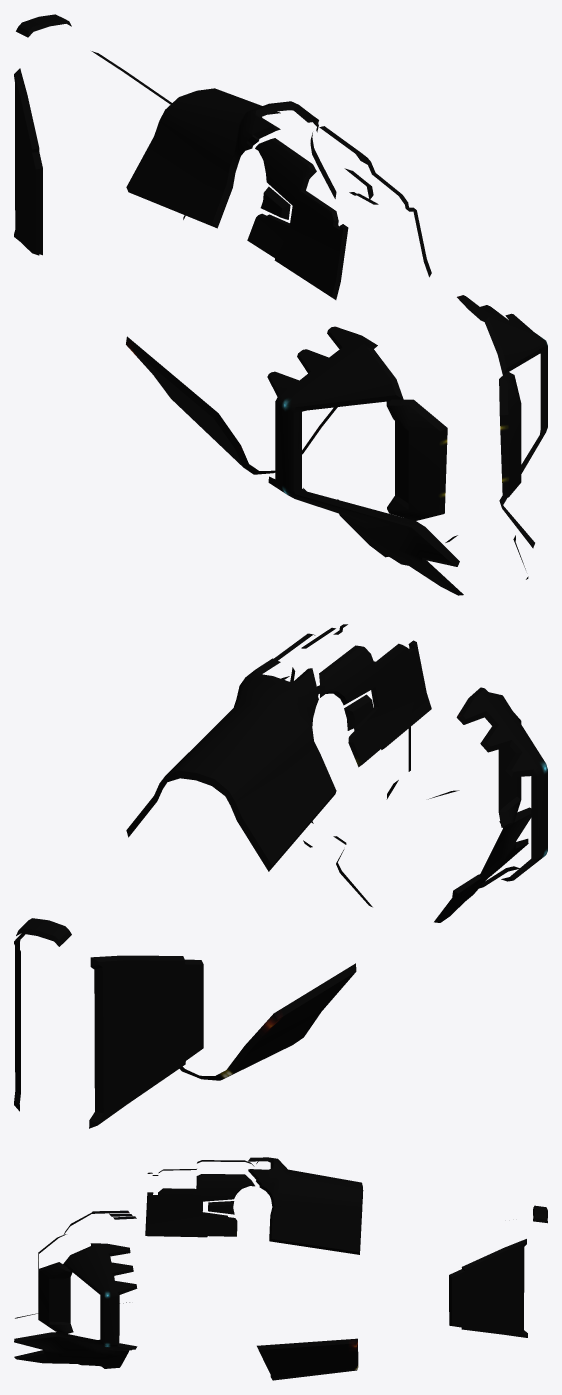
The model's file is yao_command_ship_01_t2.glb.
3 views of the same model, one above another, from view 1: azimuth 30°, elevation 25°; view 2: azimuth 150°, elevation 25°; view 3: azimuth 270°, elevation 25° (orthographic). The views are drawn at different scales.
Visible parts, largest first — view 1: yao_command_ship_01_t2_LOD0; view 2: yao_command_ship_01_t2_LOD0; view 3: yao_command_ship_01_t2_LOD0.
Part boxes in pixels (x1=…): yao_command_ship_01_t2_LOD0: x1=14, y1=14, x2=547, y2=595; yao_command_ship_01_t2_LOD0: x1=14, y1=624, x2=547, y2=1128; yao_command_ship_01_t2_LOD0: x1=14, y1=1157, x2=547, y2=1380.
Size of what is drawn, in the model's own units: 3.05 by 4.09 by 9.23.
Materials: 1 (1 with a texture image).
